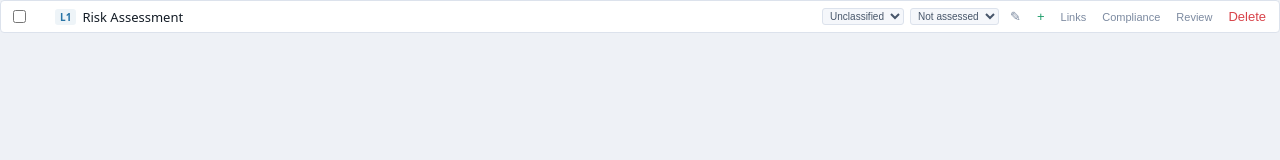
CapabilityNode (COMPLY-02 US3 — mapped compliance controls) › shows the mapped controls list when 'Compliance' is toggled on
Click the button "Compliance" at (1131, 16), box [1097, 10, 1165, 24]
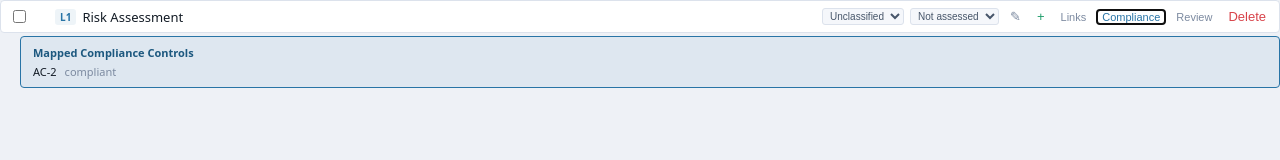
Result: the text "AC-2" is shown at [33, 64, 57, 79]
Result: the text "compliant" is shown at [65, 64, 116, 79]
